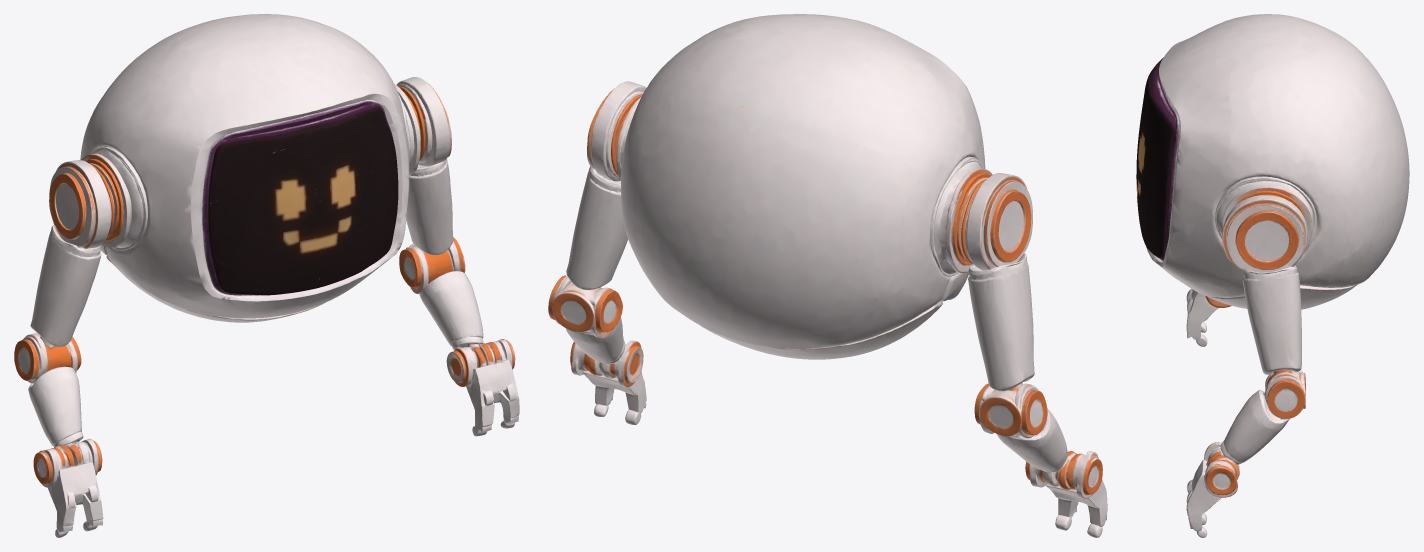
The model's file is nexo.glb.
The picture shows the model from 3 angles, left to right: view 1: azimuth 30°, elevation 25°; view 2: azimuth 150°, elevation 25°; view 3: azimuth 270°, elevation 25°; orthographic projection. The views are drawn at different scales.
Bounding box in the file's own units: 1.9 × 1.66 × 1.03.
Materials: 1 (1 with a texture image).
